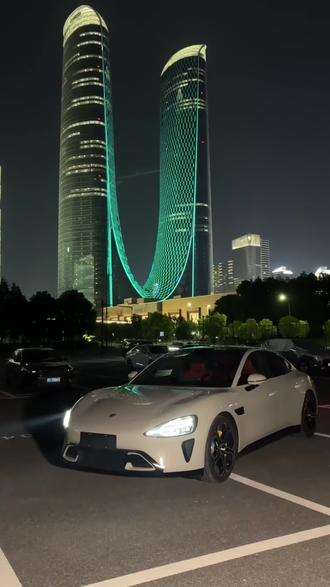su7: (53, 350, 316, 488)
